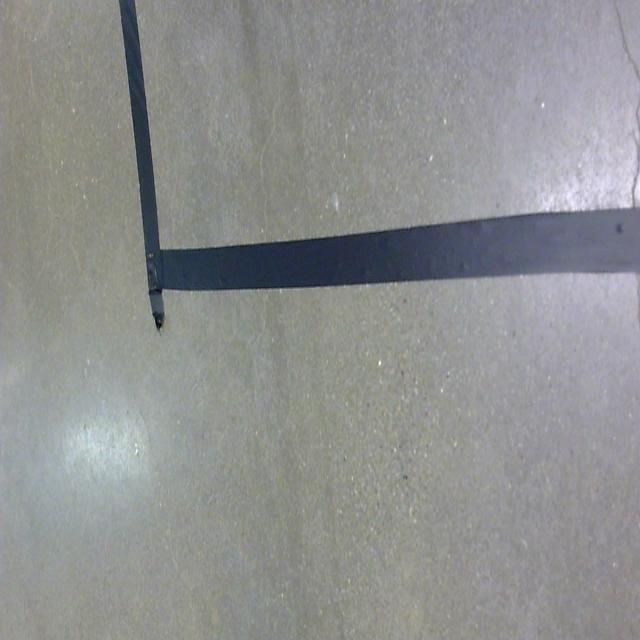tape: (106, 0, 640, 357)
